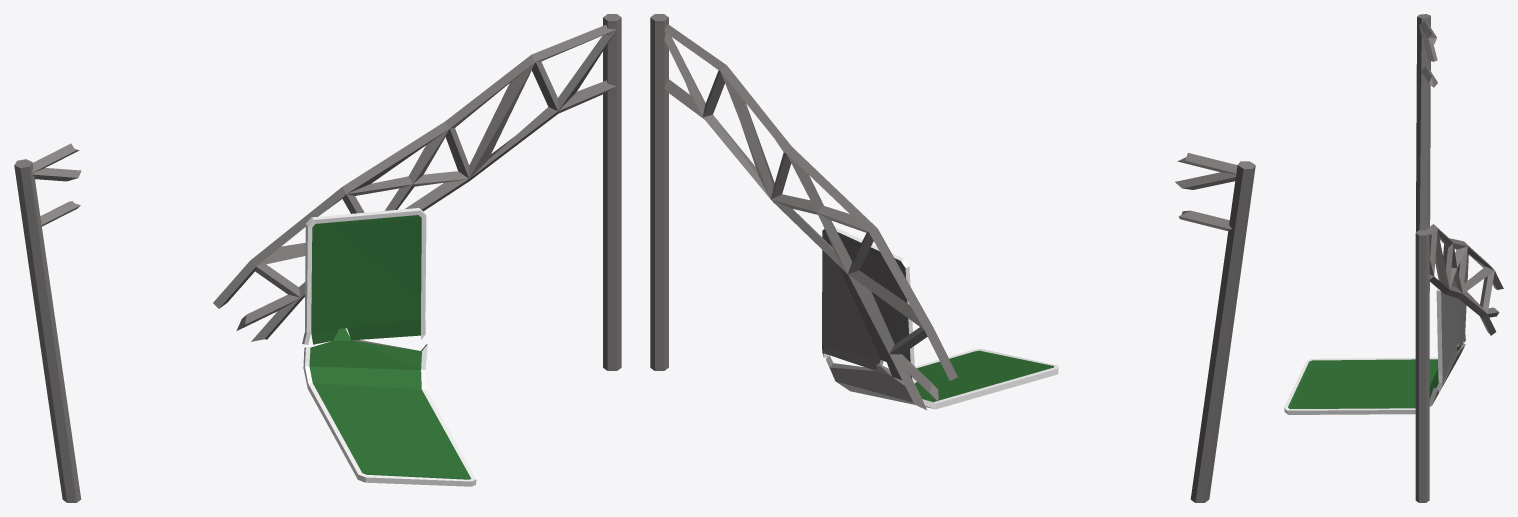
The model's file is apocalypse_road-sign-green-apocalypse.fbx.
The picture shows the model from 3 angles, left to right: view 1: azimuth 30°, elevation 25°; view 2: azimuth 150°, elevation 25°; view 3: azimuth 270°, elevation 25°; orthographic projection. The views are drawn at different scales.
Parts seen in each view (by area): view 1: apocalypse_road_sign_green_apocalypse; view 2: apocalypse_road_sign_green_apocalypse; view 3: apocalypse_road_sign_green_apocalypse.
Part boxes in pixels (x1,y1,x2,y2): apocalypse_road_sign_green_apocalypse: [14, 14, 621, 502]; apocalypse_road_sign_green_apocalypse: [650, 14, 1255, 502]; apocalypse_road_sign_green_apocalypse: [1284, 14, 1503, 502].
Bounding box in the file's own units: 200 × 111 × 82.7.
